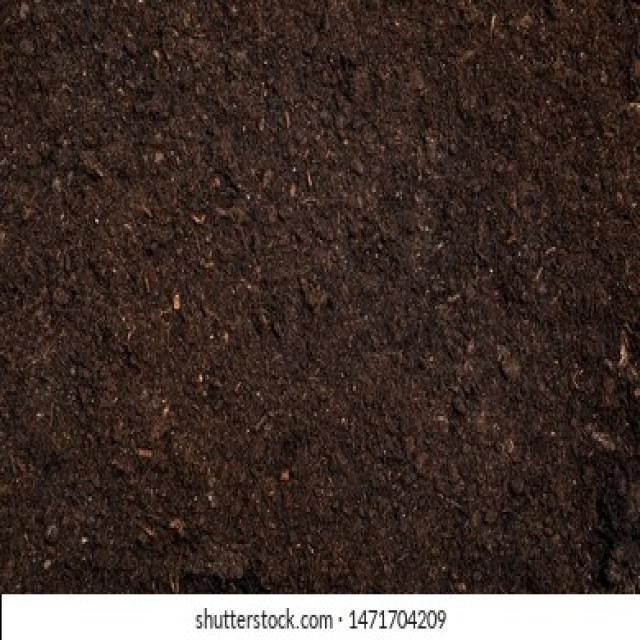Black Soil: (21, 51, 616, 550)
